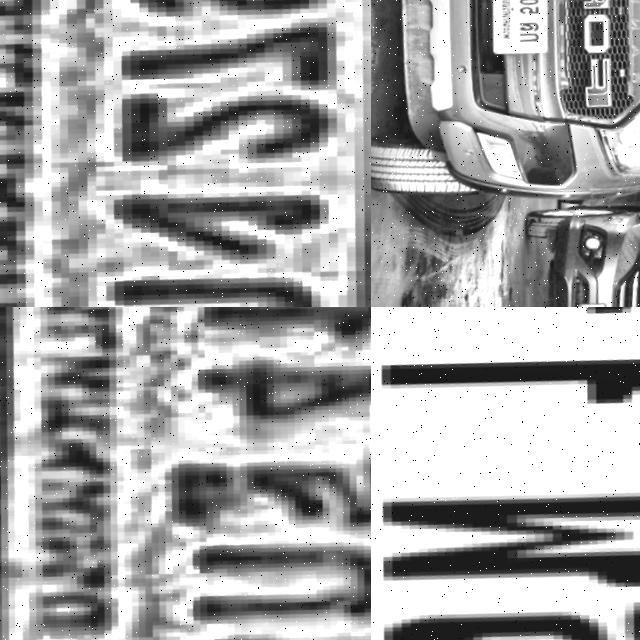license-plate: (0, 307, 371, 640), (0, 0, 371, 307), (371, 307, 640, 640), (489, 0, 562, 54)
